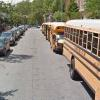buses: (64, 19, 100, 100)
